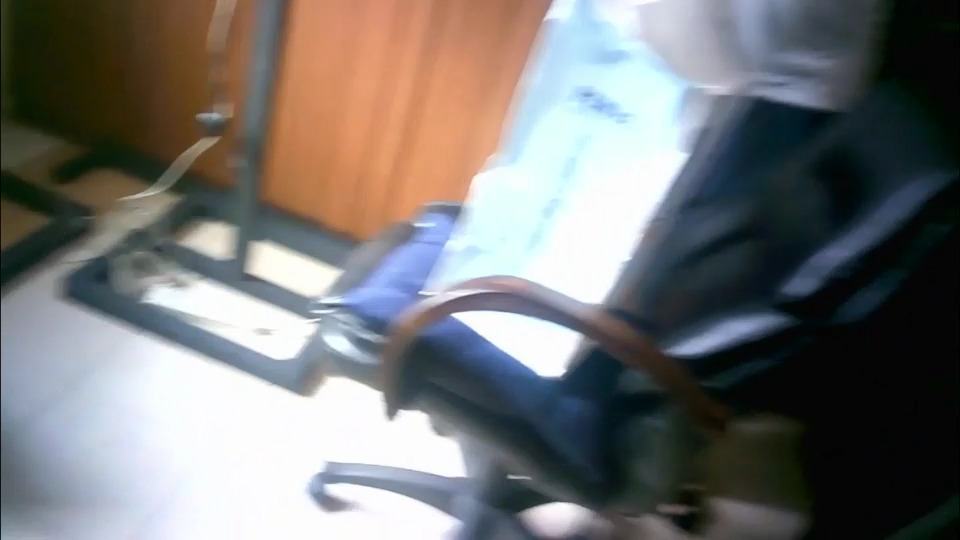wheat_flour_blue_label: (454, 1, 711, 386)
